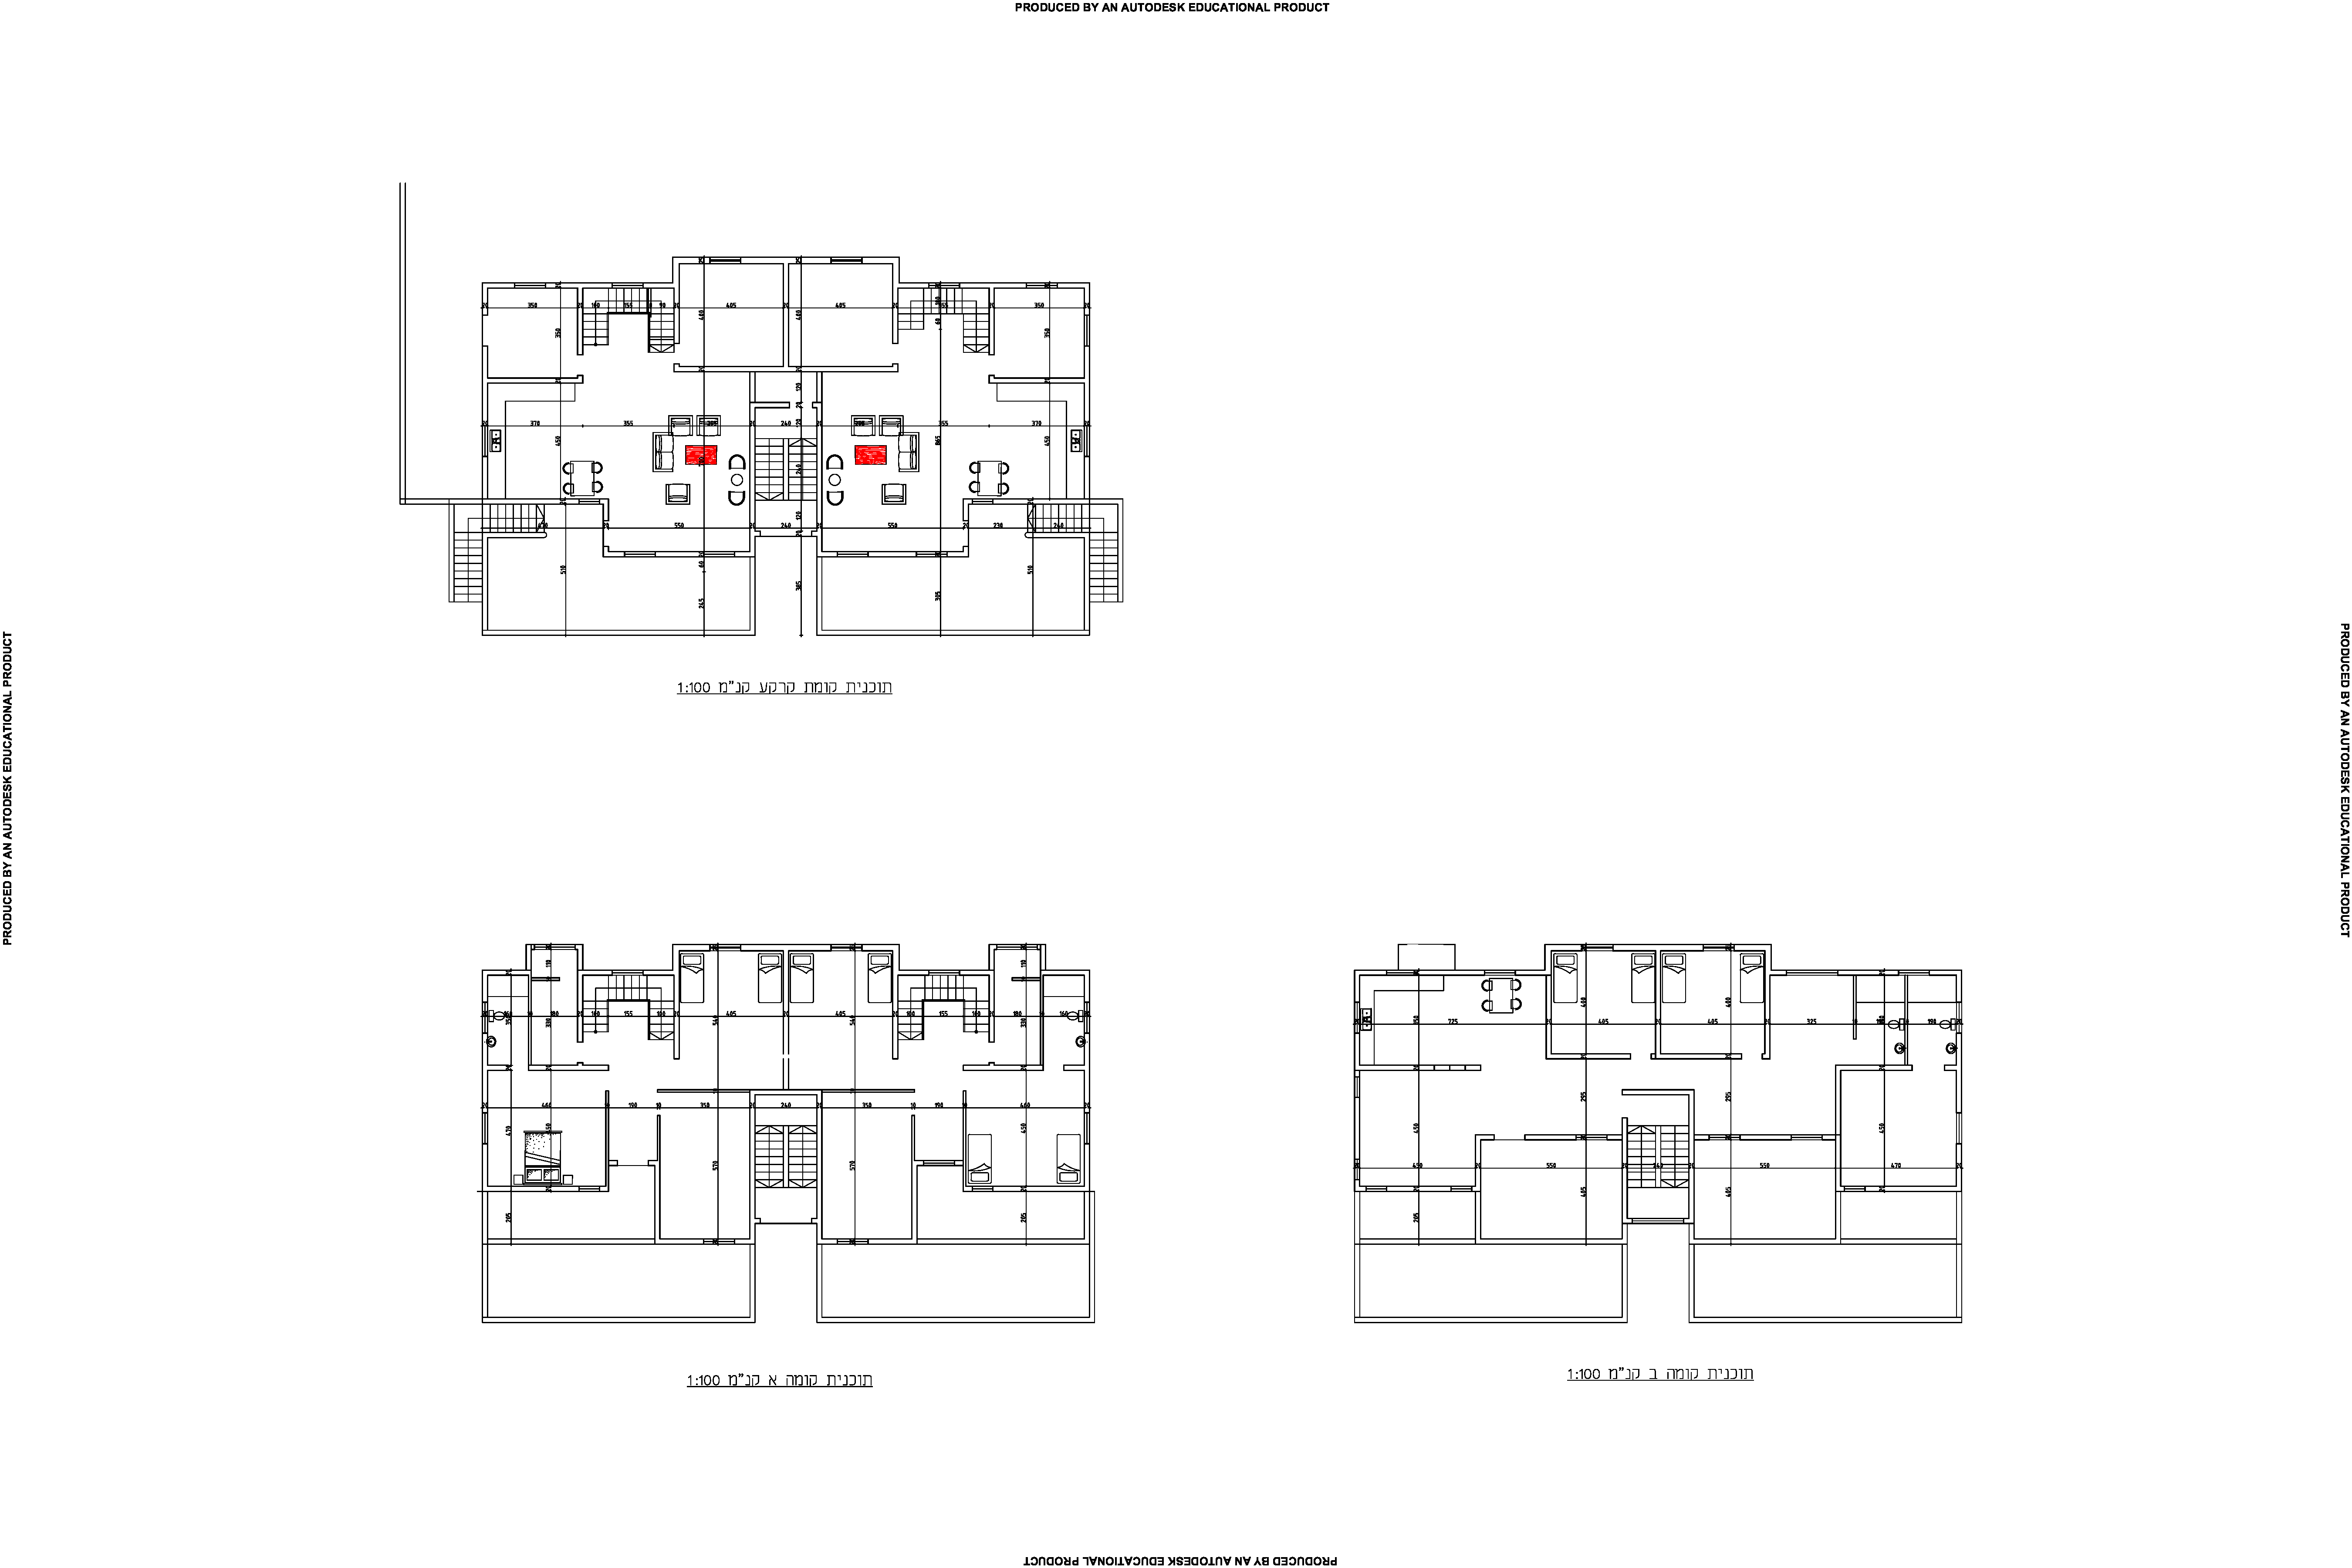wall: (399, 178, 406, 494), (480, 630, 754, 635), (413, 497, 556, 504), (957, 630, 1090, 637), (808, 366, 893, 371), (815, 632, 938, 635)
window: (613, 282, 644, 289), (513, 282, 544, 289), (709, 257, 740, 264), (830, 257, 863, 262), (702, 551, 735, 556), (836, 551, 870, 556), (623, 551, 654, 556), (917, 551, 948, 556), (971, 499, 994, 504)
